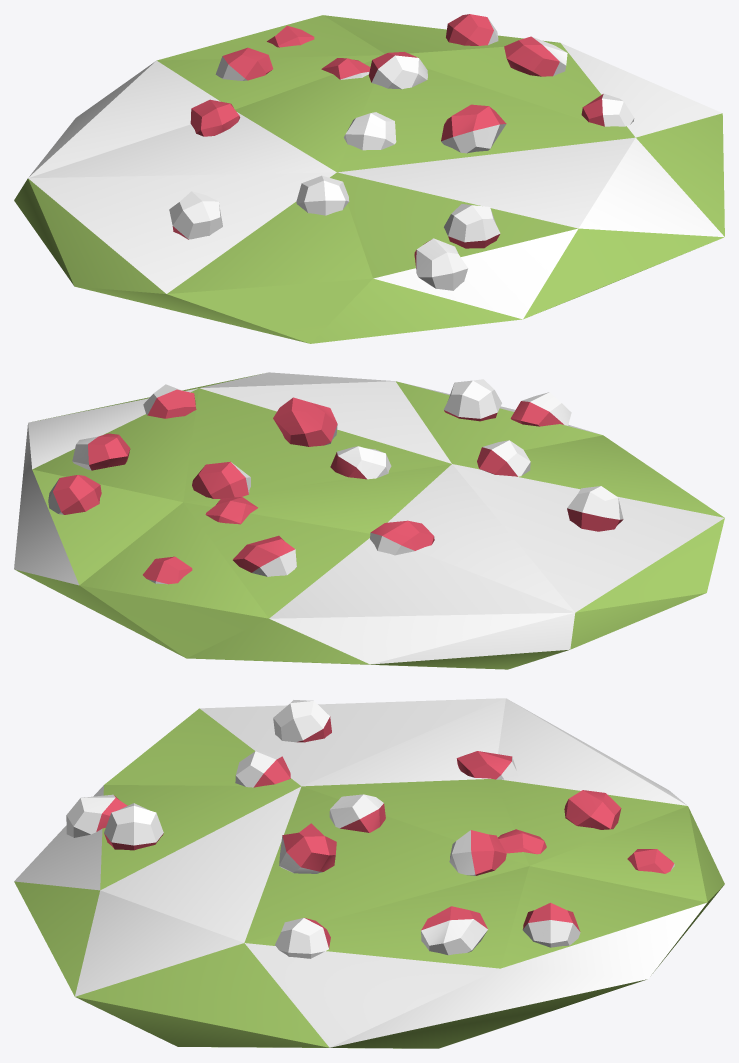
The model's file is lingonberry_3.fbx.
3 views of the same model, one above another, from view 1: azimuth 30°, elevation 25°; view 2: azimuth 150°, elevation 25°; view 3: azimuth 270°, elevation 25° (orthographic). The views are drawn at different scales.
Parts seen in each view (by area): view 1: Apple_Snow_01.004; view 2: Apple_Snow_01.004; view 3: Apple_Snow_01.004.
Part boxes in pixels (bbox=[...]): Apple_Snow_01.004: bbox=[14, 14, 724, 343]; Apple_Snow_01.004: bbox=[14, 372, 724, 669]; Apple_Snow_01.004: bbox=[14, 698, 724, 1048].
Size of the model in its own units: 2.04 by 0.3994 by 1.78.
Materials: 1 (1 with a texture image).
